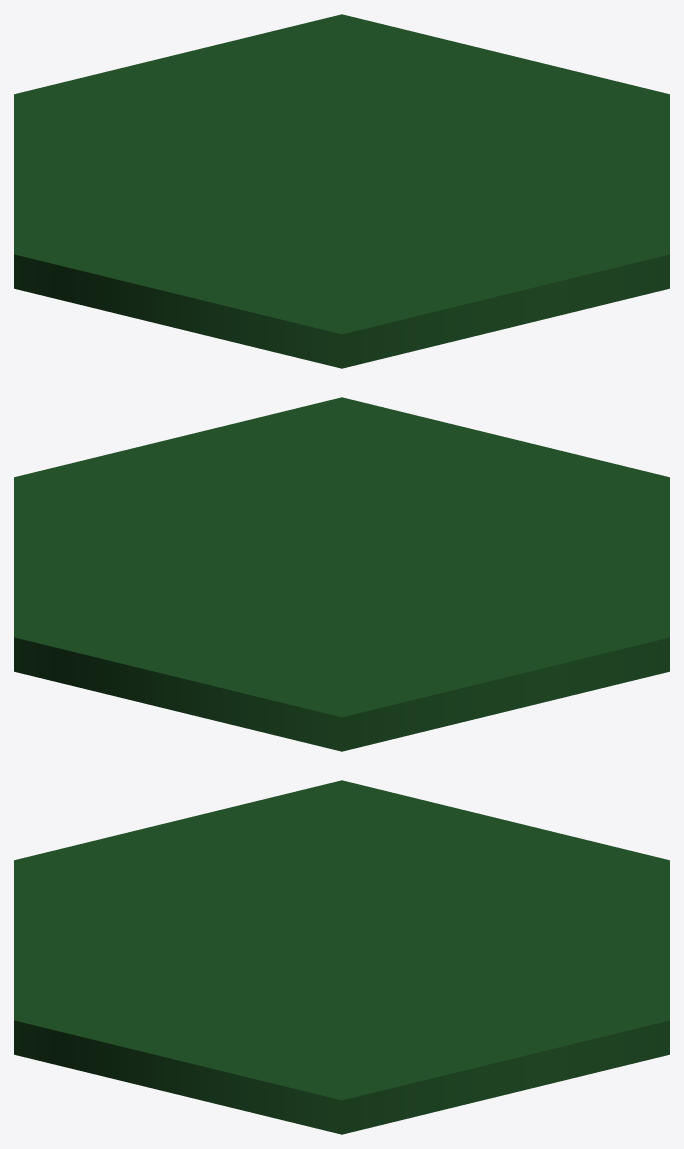
Rendered from Tile_0.FBX.
3 renders of one model, top to bottom at view 1: azimuth 30°, elevation 25°; view 2: azimuth 150°, elevation 25°; view 3: azimuth 270°, elevation 25°, orthographic.
Parts seen in each view (by area): view 1: Ground; view 2: Ground; view 3: Ground.
Boxes of the visible parts, <box> form: Ground: <box>14,14,669,368</box>; Ground: <box>14,397,669,751</box>; Ground: <box>14,780,669,1134</box>.
Bounding box in the file's own units: 39.37 × 1.97 × 34.1.
